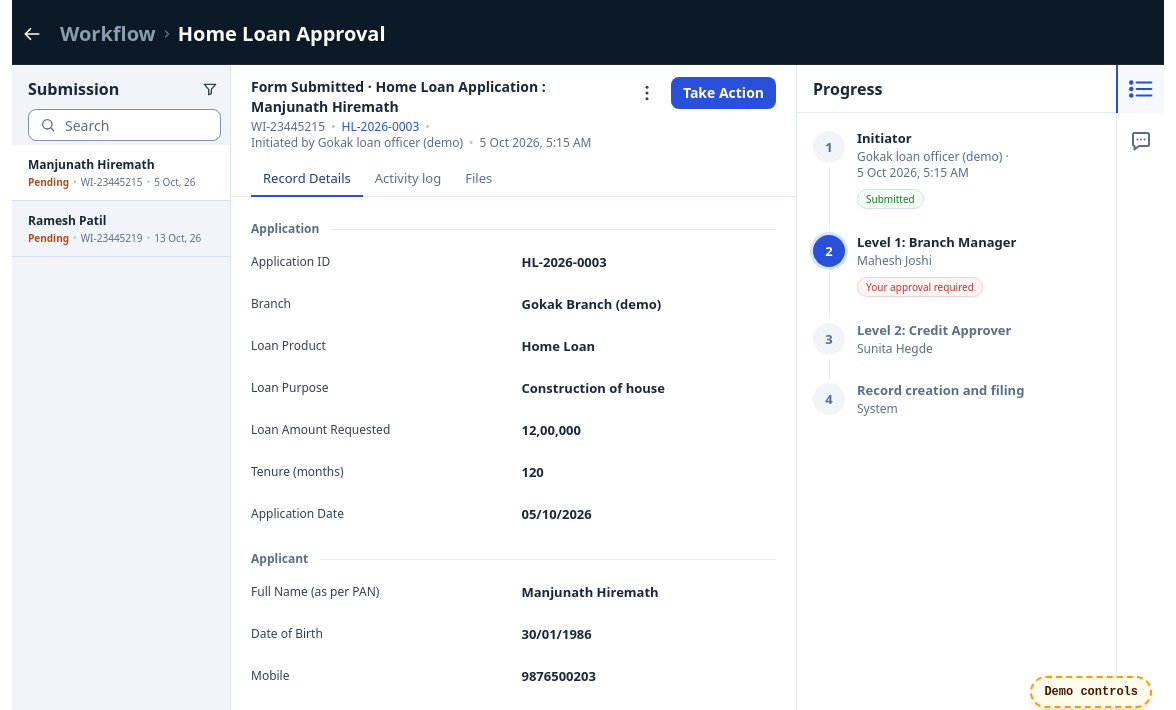
Scenario: the Submission panel › opens another submission when it is selected, and the whole screen follows
Click the button "Ramesh Patil Pending • WI-23445219 • 13 Oct, 26" at (121, 228), box [12,201,230,256]
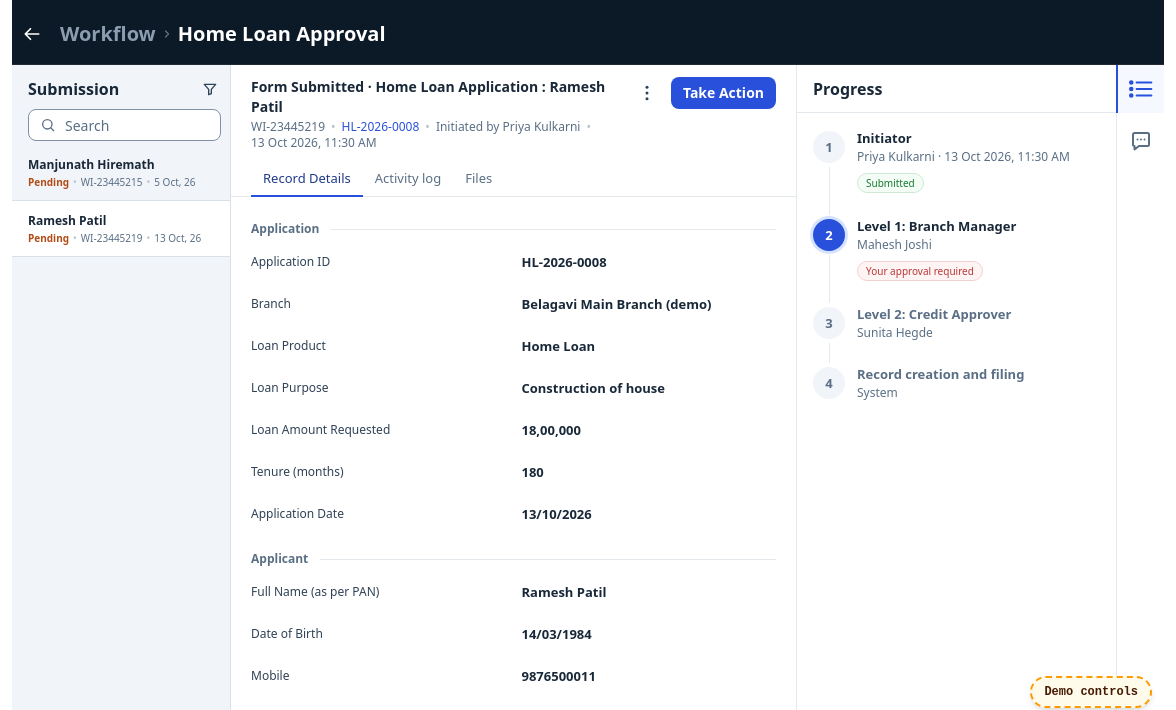
Expected: the heading "Form Submitted · Home Loan Application : Ramesh Patil" is shown, [251,77,615,117]
